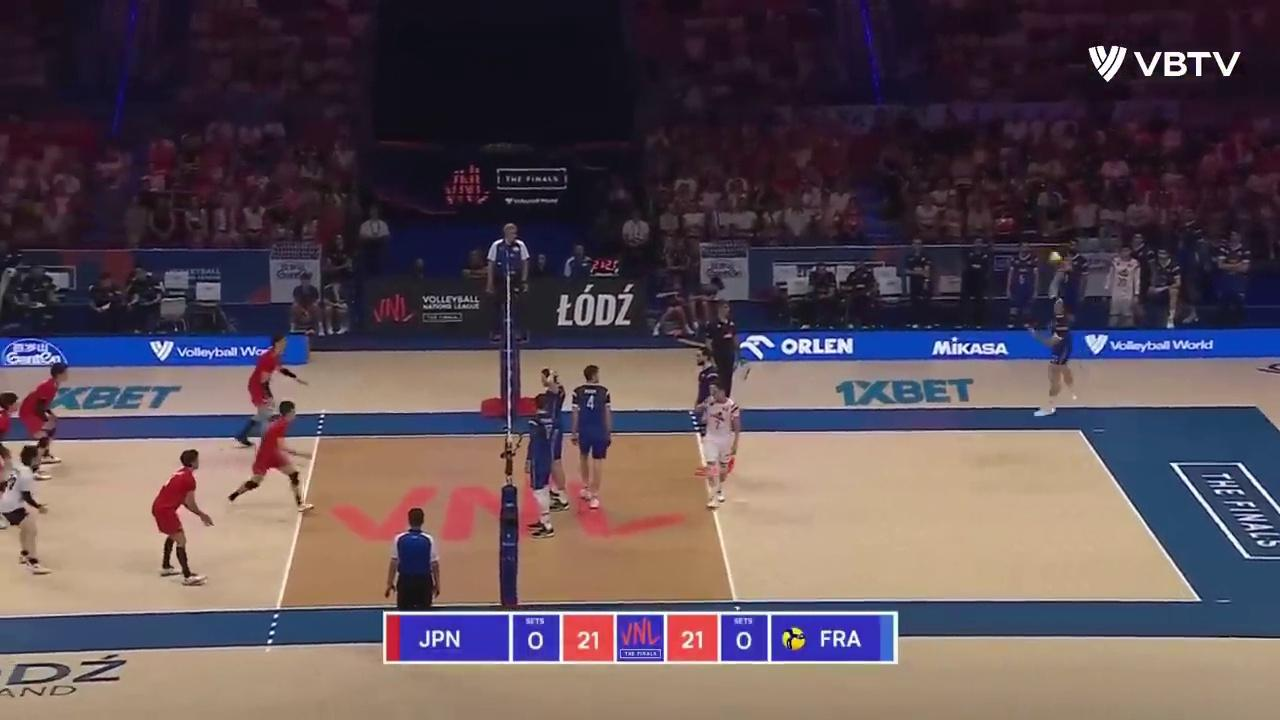ball: (1051, 252, 1063, 264)
